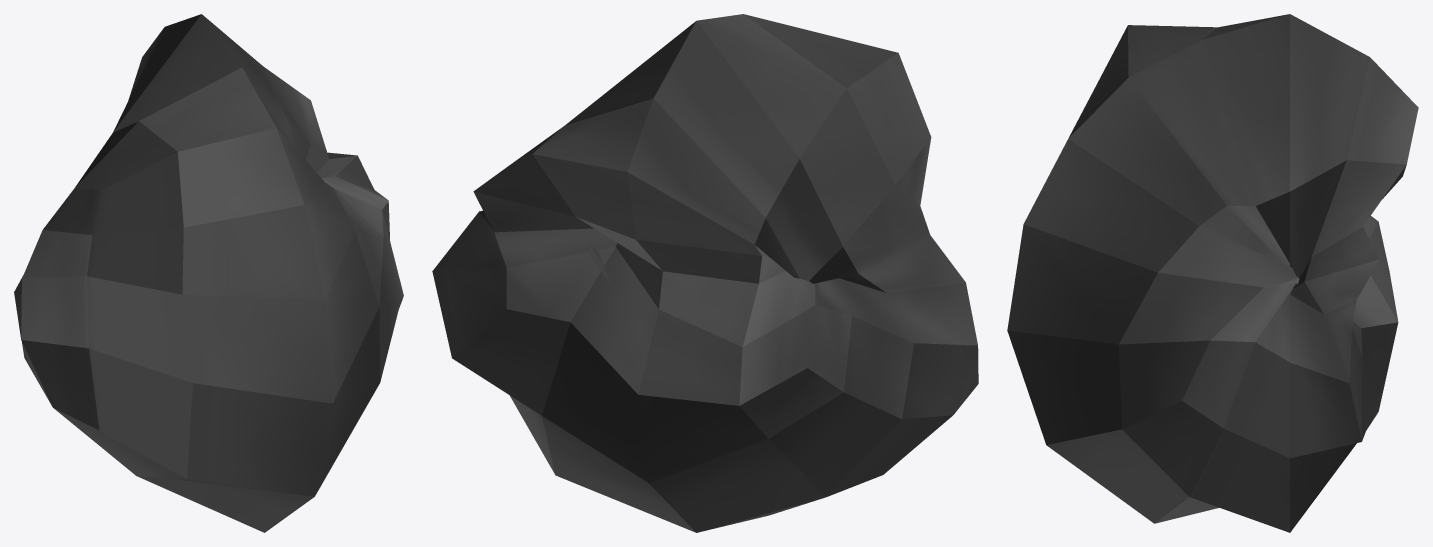
Rendered from rock.glb.
The picture shows the model from 3 angles, left to right: view 1: azimuth 30°, elevation 25°; view 2: azimuth 150°, elevation 25°; view 3: azimuth 270°, elevation 25°; orthographic projection. The views are drawn at different scales.
Parts seen in each view (by area): view 1: Cube.001; view 2: Cube.001; view 3: Cube.001.
Part boxes in pixels (x1,y1,x2,y2): Cube.001: (14, 14, 403, 532); Cube.001: (432, 14, 978, 532); Cube.001: (1007, 14, 1418, 532).
Bounding box in the file's own units: 4.83 × 5.29 × 3.87.
1 material, 1 textured.
